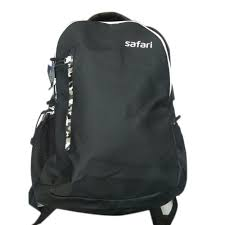backpack: (26, 11, 188, 224)
